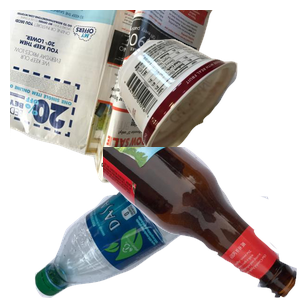glass: (103, 147, 300, 300)
paper: (10, 10, 215, 186)
plastic: (32, 154, 242, 300)
trash: (116, 36, 300, 187)
